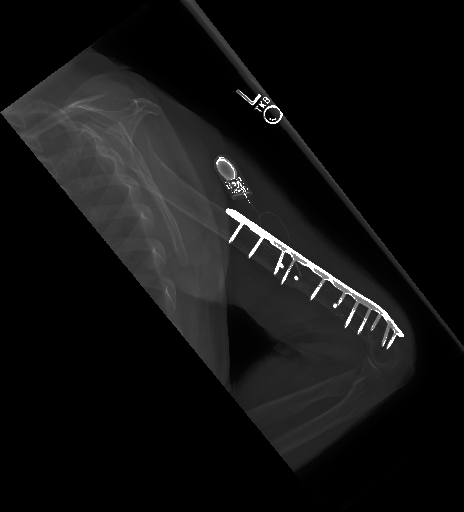implant: (221, 205, 405, 349), (214, 154, 253, 207)
